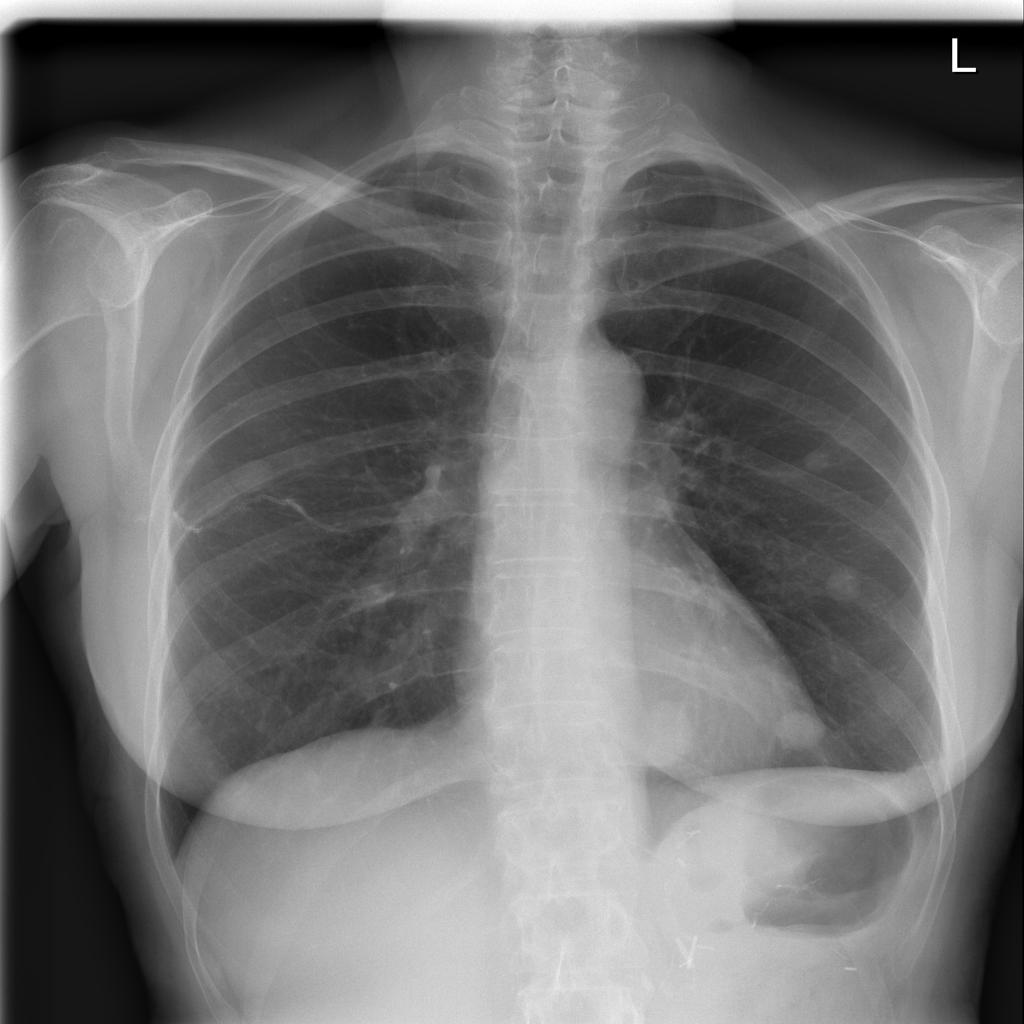nodule: (628, 689, 706, 775), (214, 443, 293, 507), (760, 701, 841, 762), (809, 553, 885, 617), (232, 322, 289, 366), (786, 439, 845, 481)
